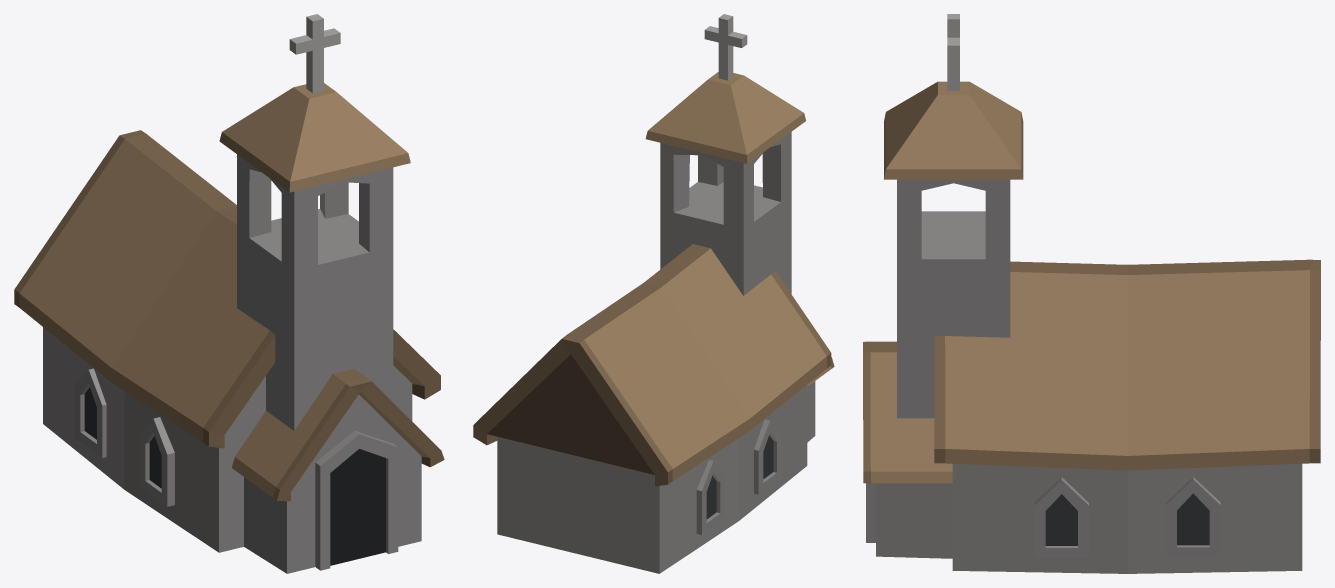
Rendered from SM_Bld_Knights_Church_01.glb.
3 views of the same model, side by side, from view 1: azimuth 30°, elevation 25°; view 2: azimuth 150°, elevation 25°; view 3: azimuth 270°, elevation 25° (orthographic). The views are drawn at different scales.
Parts seen in each view (by area): view 1: SM_Bld_Knights_Church_01; view 2: SM_Bld_Knights_Church_01; view 3: SM_Bld_Knights_Church_01.
Part boxes in pixels (x1=…): SM_Bld_Knights_Church_01: x1=14, y1=14, x2=444, y2=573; SM_Bld_Knights_Church_01: x1=473, y1=14, x2=834, y2=573; SM_Bld_Knights_Church_01: x1=863, y1=14, x2=1320, y2=573.
Size of the model in its own units: 0.8769 by 1.84 by 1.51.
1 material, 1 textured.
